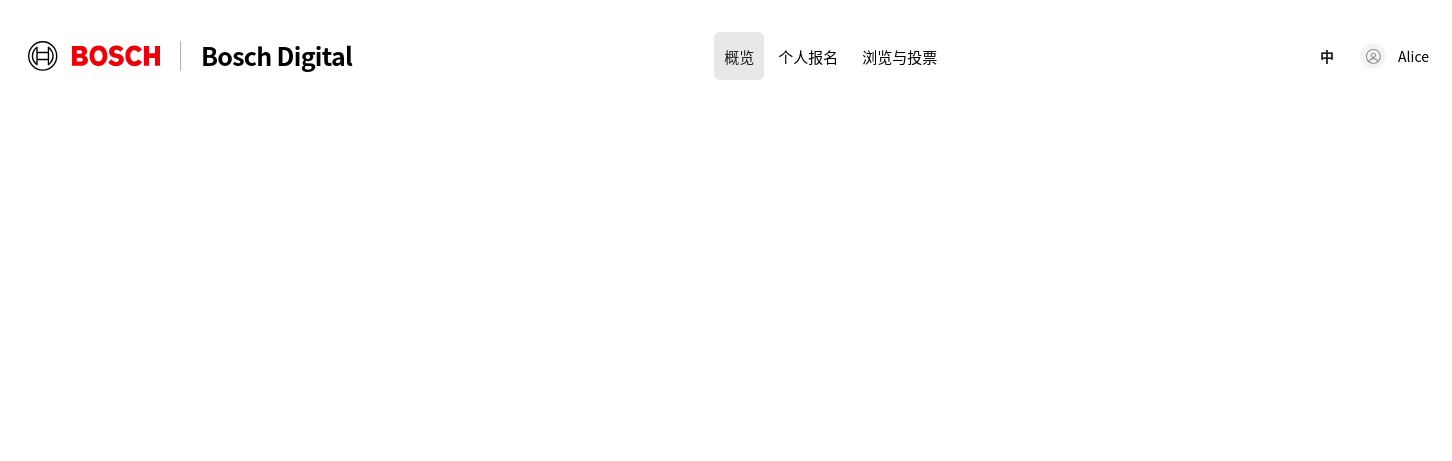
Test case: Header › returns to the public home after logout, server failure: false
The width and height of the screenshot is (1452, 461).
Click the button "Alice" at (1395, 56), box [1353,38,1436,74]
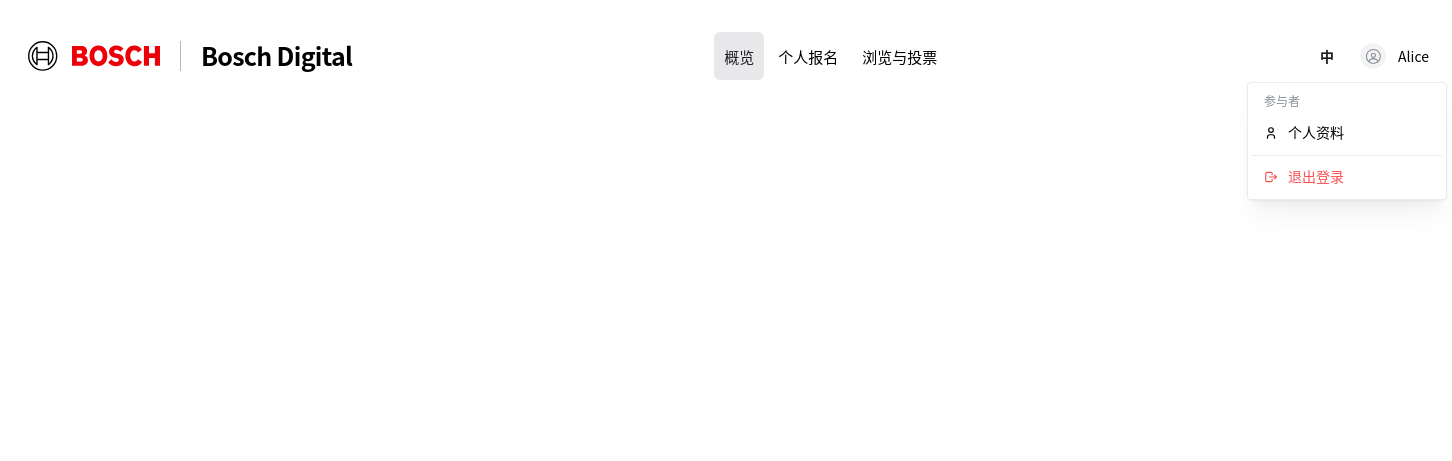
Click the menu item "退出登录" at (1347, 177), box [1252,160,1442,195]
(page scrolled)
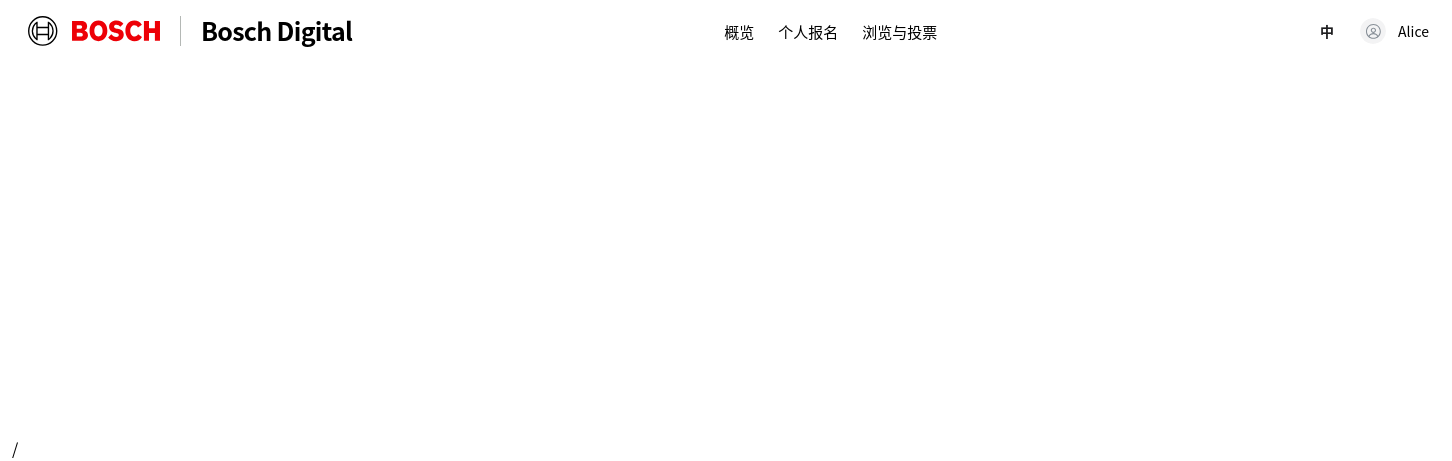
Check: the text with test id "current-path" reads "/", box [12,436,18,460]
